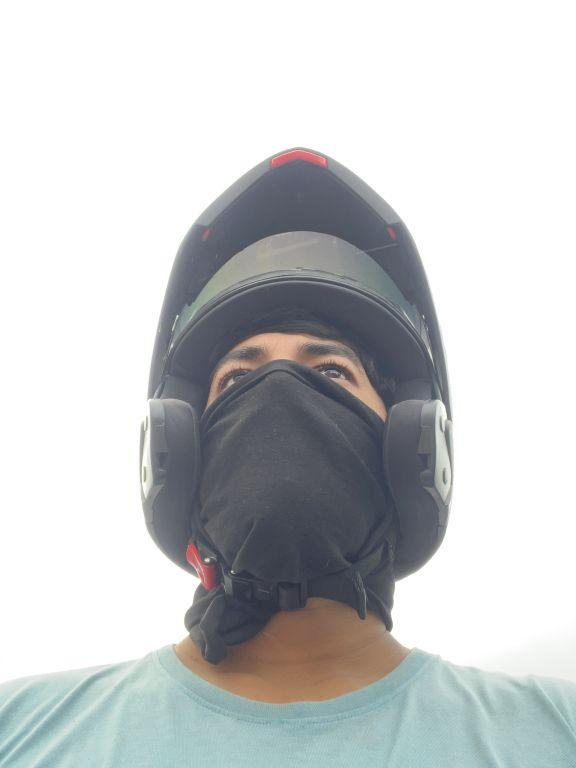helmet: (127, 109, 466, 645)
